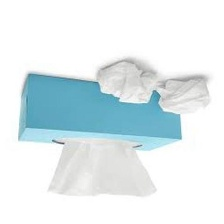book: (12, 69, 186, 155)
tissue: (42, 135, 162, 204), (91, 56, 164, 108), (152, 71, 215, 120)
